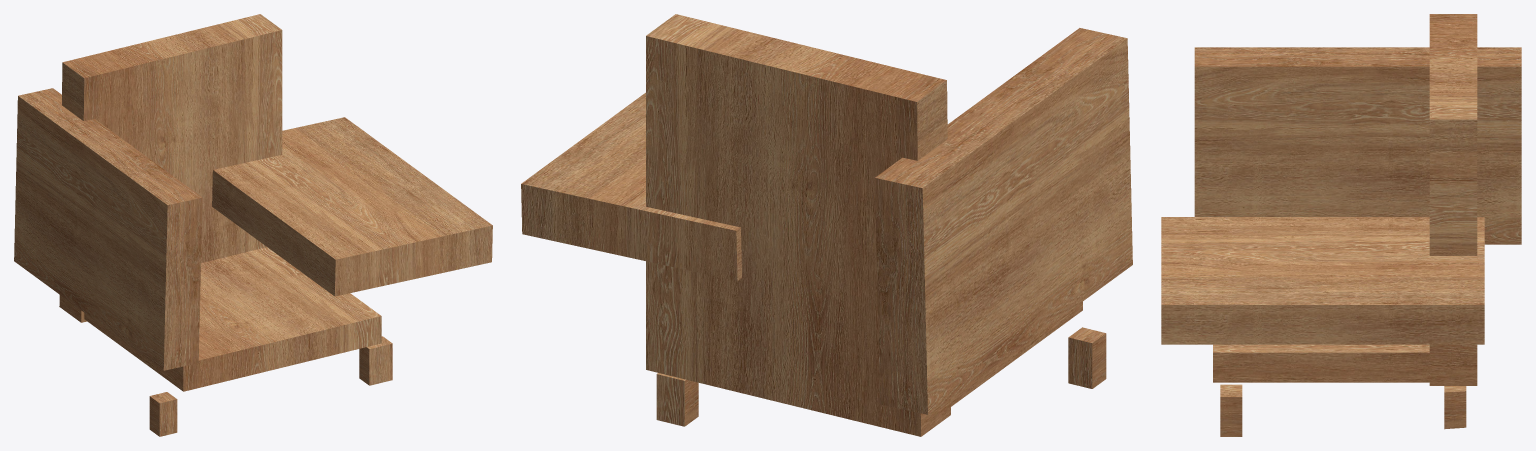
The model's file is 3326_deepcad-end2end.glb.
3 views of the same model, side by side, from view 1: azimuth 30°, elevation 25°; view 2: azimuth 150°, elevation 25°; view 3: azimuth 270°, elevation 25° (orthographic). The views are drawn at different scales.
Visible parts, largest first — view 1: test_cmd_3326_pred; view 2: test_cmd_3326_pred; view 3: test_cmd_3326_pred.
Part boxes in pixels (bbox=[...]): test_cmd_3326_pred: bbox=[14, 14, 492, 436]; test_cmd_3326_pred: bbox=[521, 14, 1132, 436]; test_cmd_3326_pred: bbox=[1161, 14, 1521, 436].
Bounding box in the file's own units: 1 × 0.8627 × 0.9091.
1 material, 1 textured.
